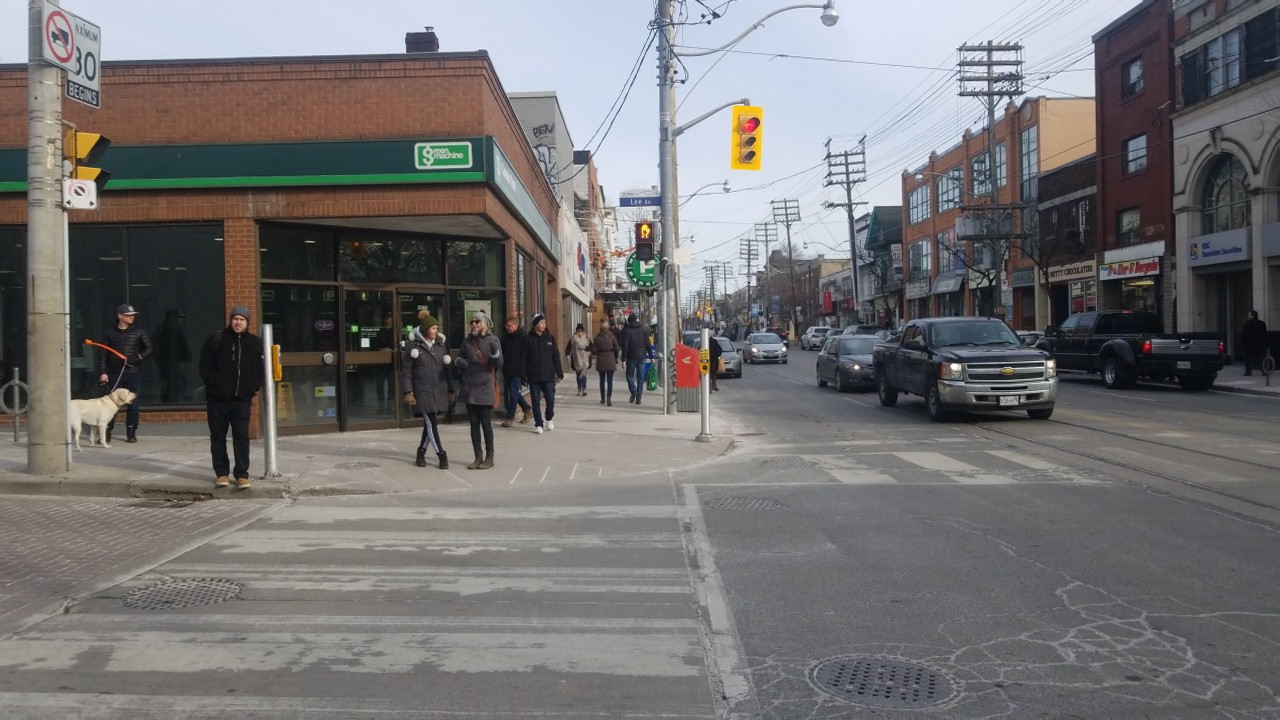light: (632, 220, 658, 263)
